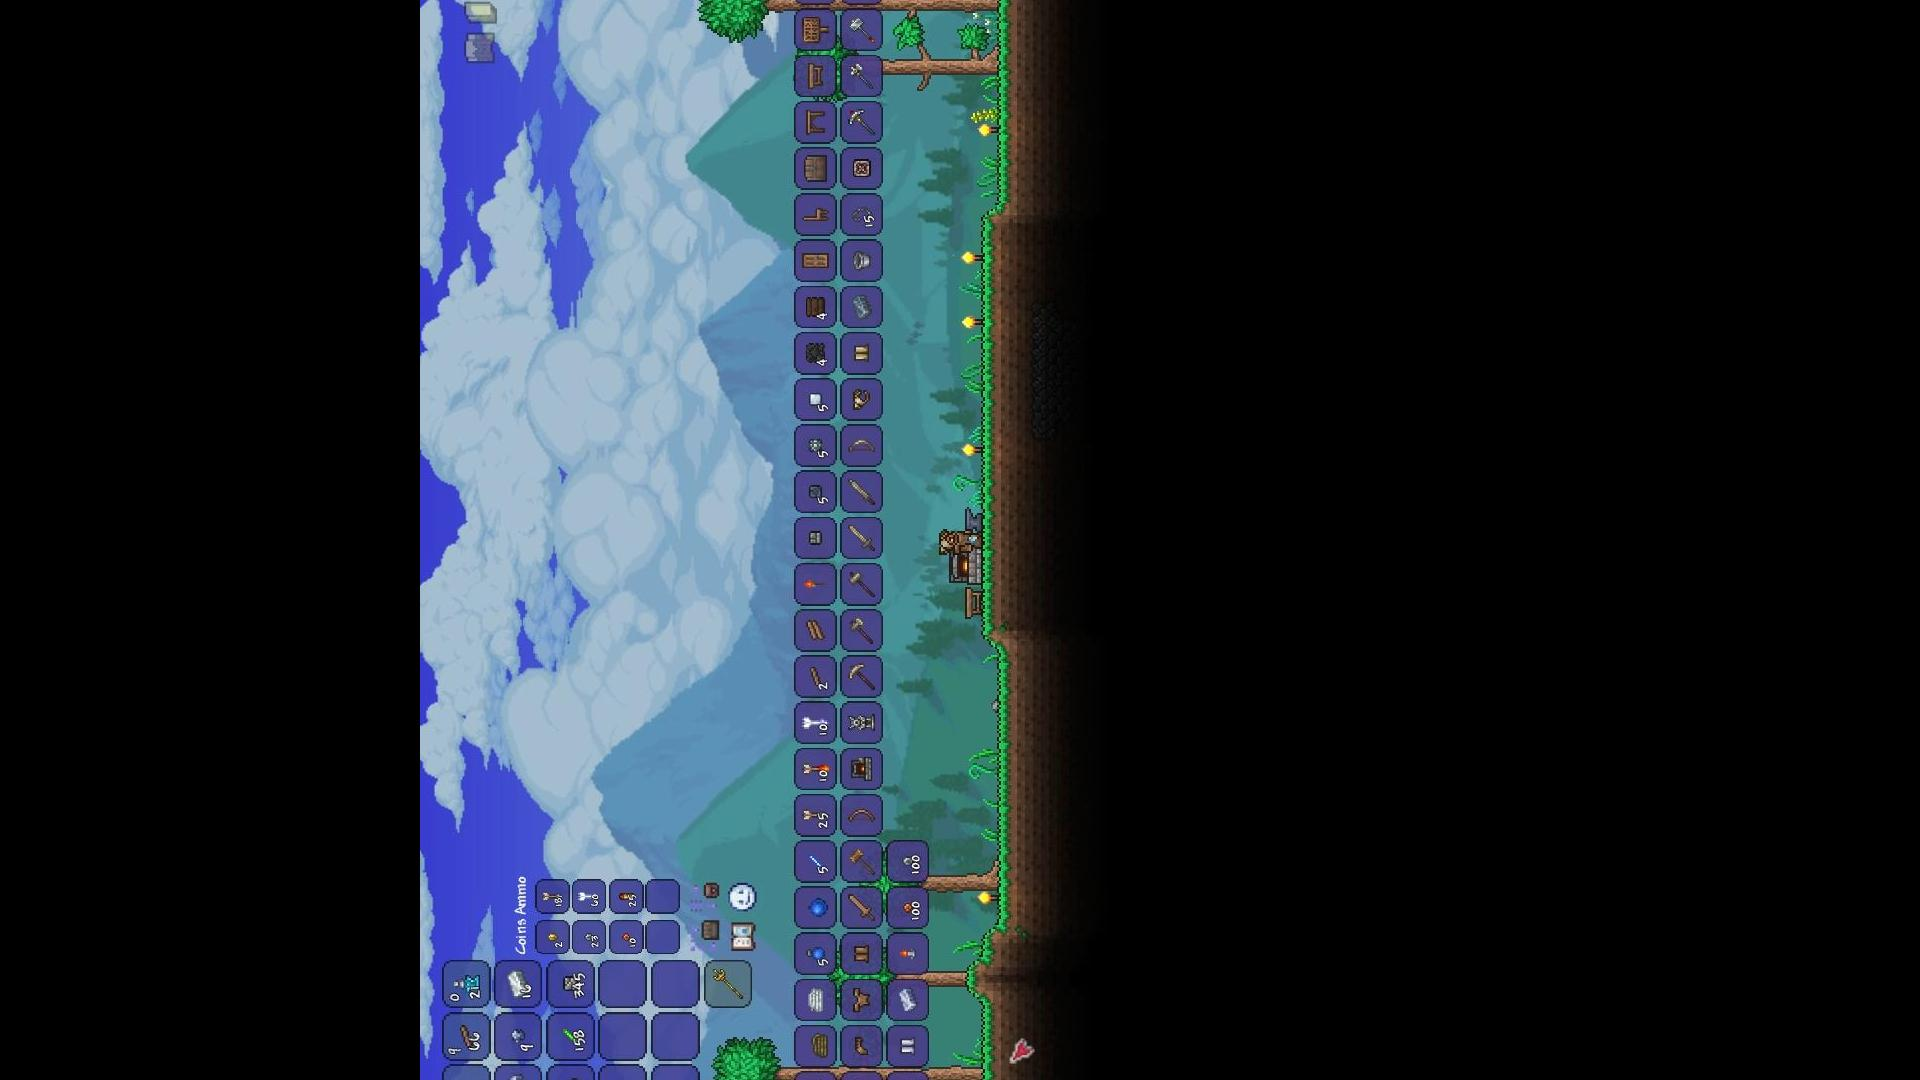dirt: (971, 216, 1009, 658), (984, 658, 1029, 932), (984, 0, 1021, 216), (955, 920, 1007, 1000)
